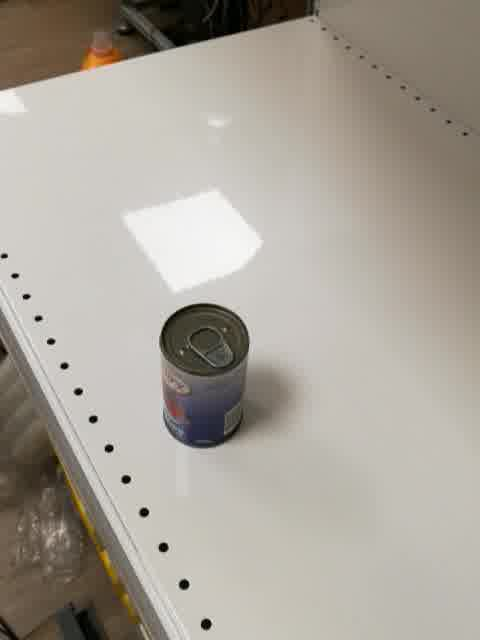sardine: (158, 302, 252, 451)
